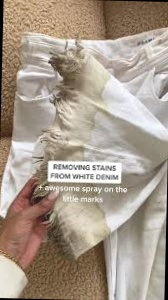earth: (52, 69, 106, 124), (59, 209, 102, 244), (48, 132, 85, 159)
